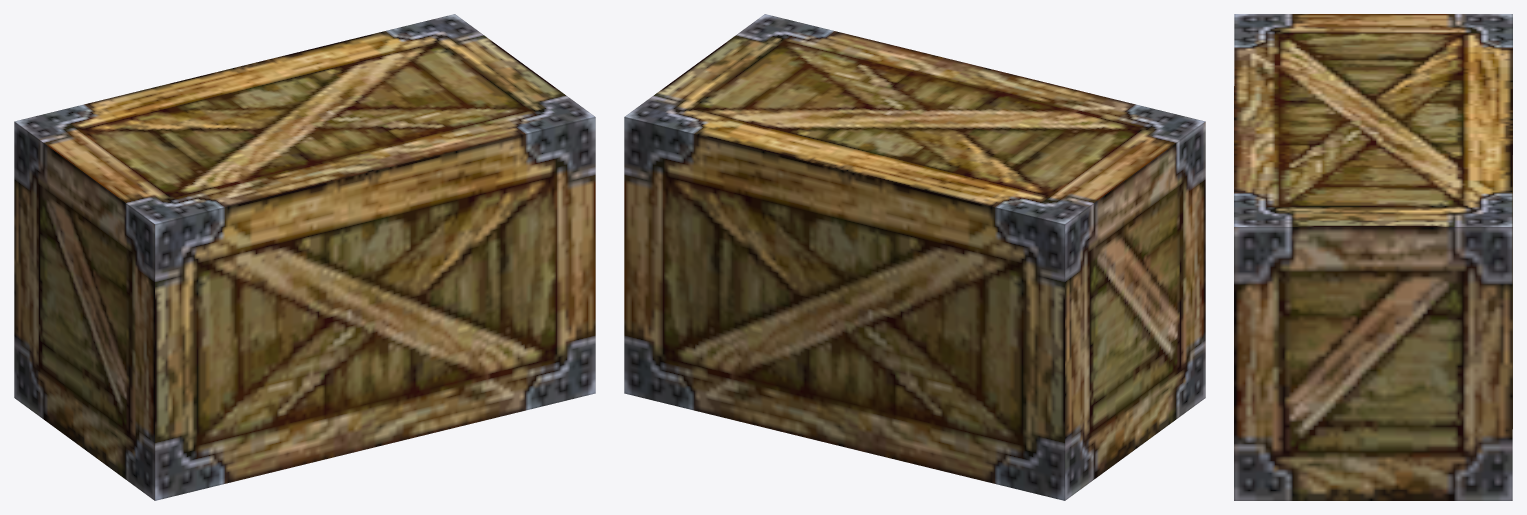
The picture shows the model from 3 angles, left to right: view 1: azimuth 30°, elevation 25°; view 2: azimuth 150°, elevation 25°; view 3: azimuth 270°, elevation 25°; orthographic projection.
Visible parts, largest first — view 1: box1; view 2: box1; view 3: box1.
Boxes of the visible parts, box(x1,y1,x2,y2) form: box1: box(14, 14, 595, 500); box1: box(624, 14, 1205, 500); box1: box(1234, 14, 1512, 500).
Bounding box in the file's own units: 0.9992 × 0.5993 × 0.5525.
Materials: 1 (1 with a texture image).
